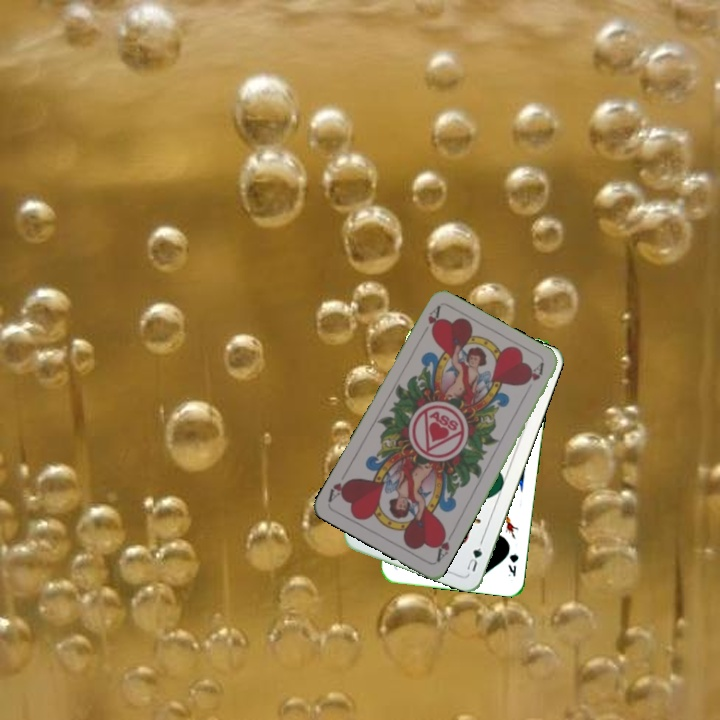GK: (504, 550, 521, 579)
GU: (462, 543, 485, 574)
HA: (431, 526, 457, 565), (417, 302, 443, 340)
